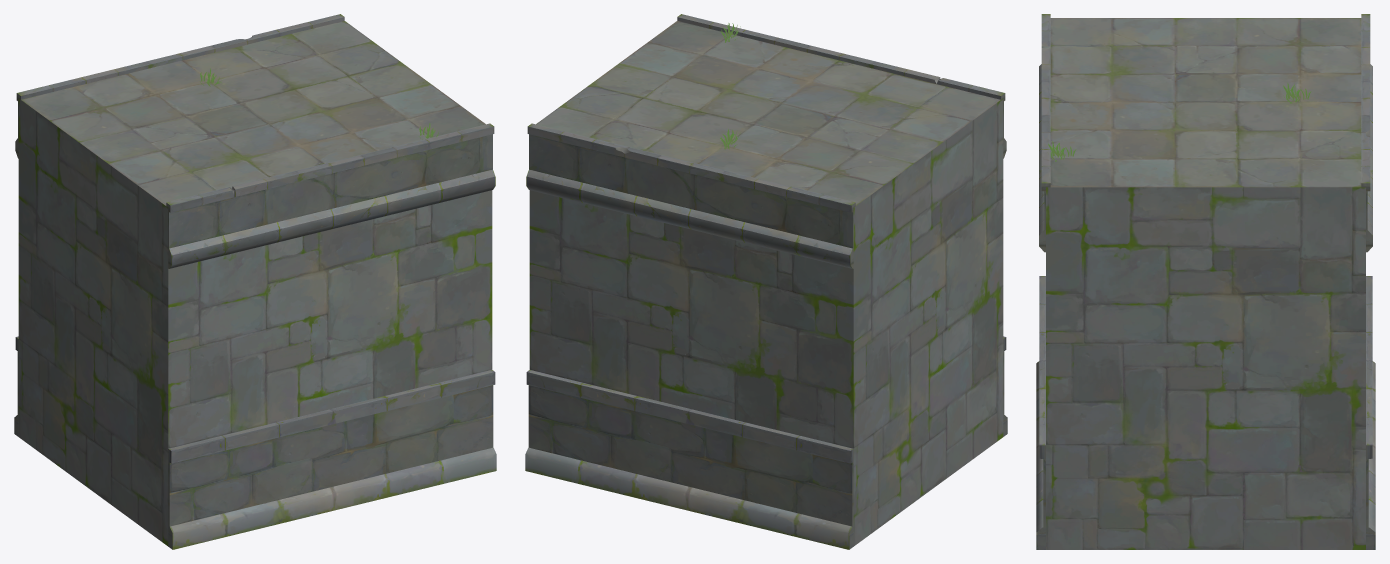
File: Area_MdBuild_SdWall03_01_Group.fbx
The picture shows the model from 3 angles, left to right: view 1: azimuth 30°, elevation 25°; view 2: azimuth 150°, elevation 25°; view 3: azimuth 270°, elevation 25°; orthographic projection. The views are drawn at different scales.
Visible parts, largest first — view 1: Area_MdBuild_SdWall03_01_Lod0; view 2: Area_MdBuild_SdWall03_01_Lod0; view 3: Area_MdBuild_SdWall03_01_Lod0.
Part boxes in pixels (x1=…): Area_MdBuild_SdWall03_01_Lod0: x1=14, y1=14, x2=496, y2=549; Area_MdBuild_SdWall03_01_Lod0: x1=525, y1=14, x2=1007, y2=549; Area_MdBuild_SdWall03_01_Lod0: x1=1036, y1=14, x2=1375, y2=549.
Bounding box in the file's own units: 10 × 10.52 × 8.48.
5 materials, 5 textured.
